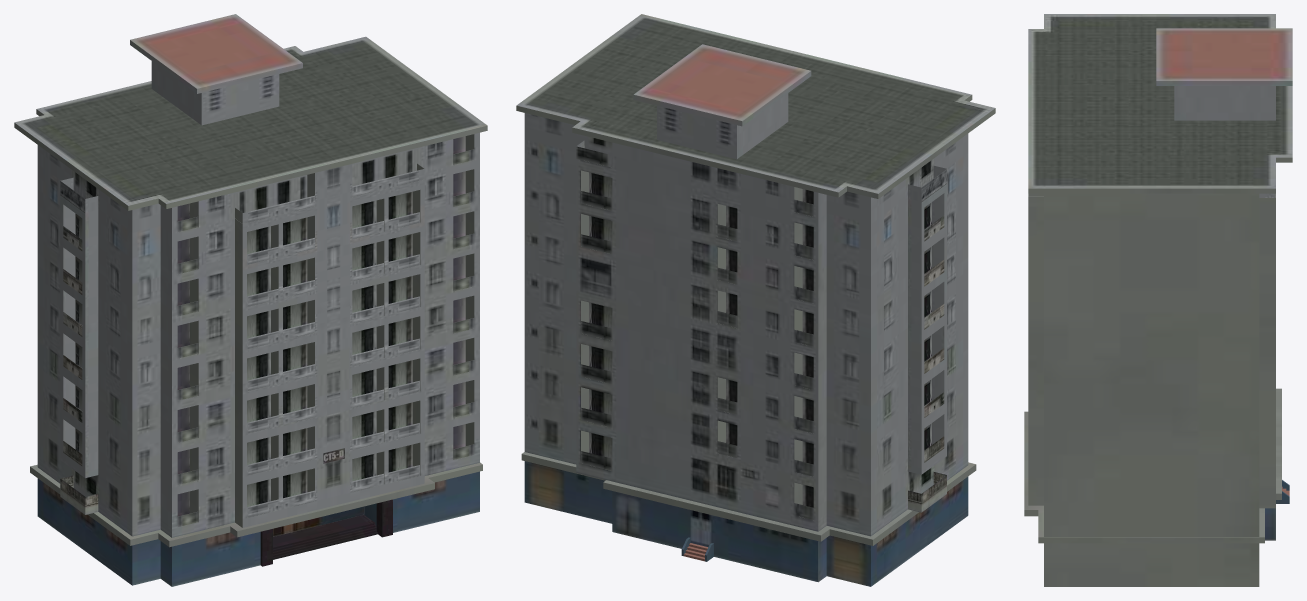
The picture shows the model from 3 angles, left to right: view 1: azimuth 30°, elevation 25°; view 2: azimuth 150°, elevation 25°; view 3: azimuth 270°, elevation 25°; orthographic projection. The views are drawn at different scales.
Parts seen in each view (by area): view 1: HN554_1___CT5D_Me_Tri_Ha; view 2: HN554_1___CT5D_Me_Tri_Ha; view 3: HN554_1___CT5D_Me_Tri_Ha.
Boxes of the visible parts, box(x1,y1,x2,y2) form: HN554_1___CT5D_Me_Tri_Ha: box(14, 14, 487, 586); HN554_1___CT5D_Me_Tri_Ha: box(516, 14, 995, 586); HN554_1___CT5D_Me_Tri_Ha: box(1024, 14, 1292, 586).
Bounding box in the file's own units: 30.02 × 35.7 × 19.46.
Materials: 1 (1 with a texture image).
